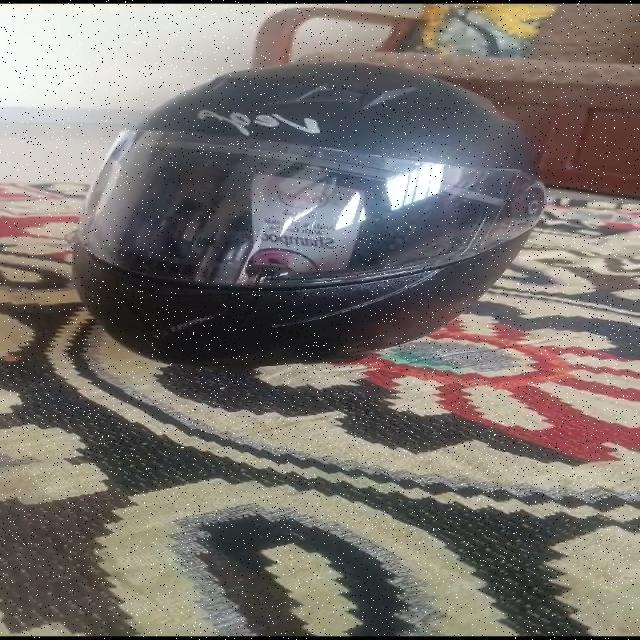Helmet: (71, 60, 545, 356)
